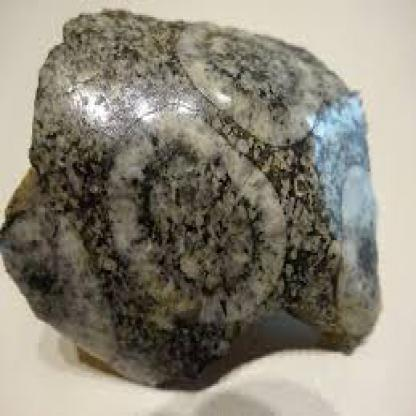Igneous_Diorite: (6, 2, 382, 393)
